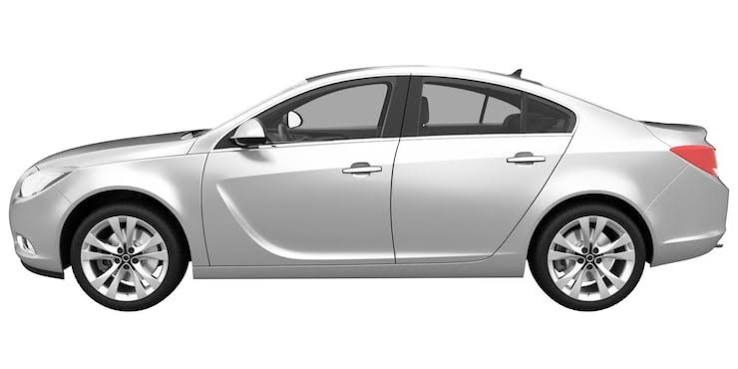car: (5, 63, 735, 310)
